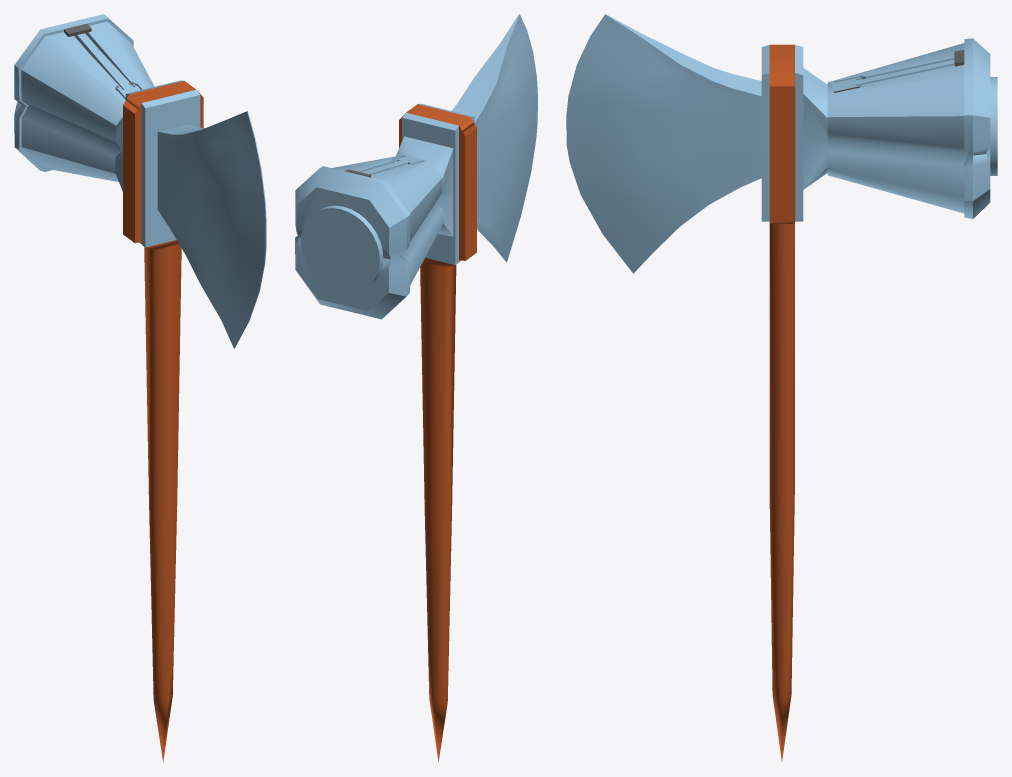
File: thorhammer.fbx
3 views of the same model, side by side, from view 1: azimuth 30°, elevation 25°; view 2: azimuth 150°, elevation 25°; view 3: azimuth 270°, elevation 25° (orthographic). The views are drawn at different scales.
Parts seen in each view (by area): view 1: pCube9, pCube21, pCube20, pasted__pCube10, pasted__group5_pasted__pasted__group3_pasted__pasted__pasted, pCylinder3, pasted__pCube7; view 2: pCylinder3, pCube21, pCube9, pCube20, pCube10, pasted__group5_pasted__pasted__group3_pasted__pasted__pasted, pasted__pCube7; view 3: pCube9, pCube20, pCube21, pCylinder3, pasted__group5_pasted__pasted__group3_pasted__pasted__pasted, pasted__pCube7, pCube10, pasted__pCube10.
Part boxes in pixels (x1,y1,x2,y2): pCube9: (157, 111, 266, 348); pCube21: (123, 81, 203, 761); pCube20: (21, 21, 154, 181); pasted__pCube10: (141, 89, 200, 247); pasted__group5_pasted__pasted__group3_pasted__pasted__pasted: (123, 97, 203, 243); pCylinder3: (14, 14, 133, 171); pasted__pCube7: (115, 118, 122, 191); pCylinder3: (295, 166, 410, 319); pCube21: (399, 104, 476, 762); pCube9: (452, 14, 537, 262); pCube20: (332, 154, 442, 285); pCube10: (402, 112, 458, 265); pasted__group5_pasted__pasted__group3_pasted__pasted__pasted: (399, 120, 476, 260); pasted__pCube7: (396, 136, 453, 236); pCube9: (566, 14, 761, 273); pCube20: (827, 43, 967, 213); pCube21: (769, 44, 795, 761); pCylinder3: (964, 38, 997, 219); pasted__group5_pasted__pasted__group3_pasted__pasted__pasted: (769, 86, 795, 221); pasted__pCube7: (803, 68, 827, 189); pCube10: (795, 44, 803, 221); pasted__pCube10: (761, 44, 769, 221).
Size of the model in its own units: 3.86 by 22.83 by 11.91.
